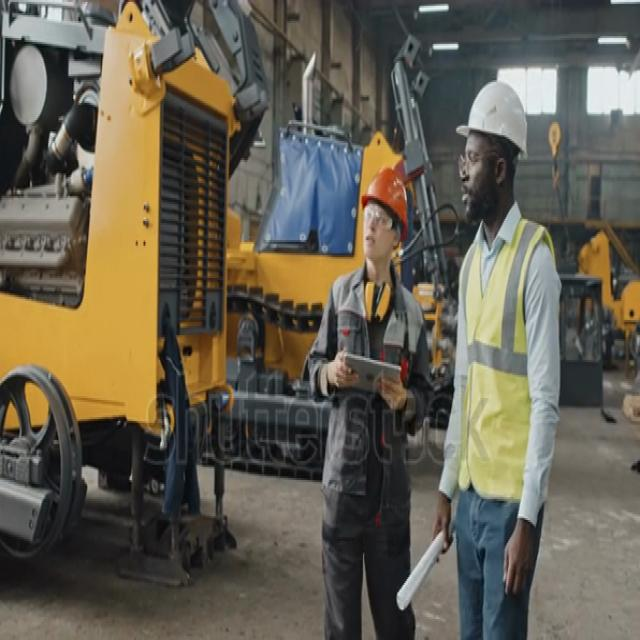Ear-Protection: (360, 269, 396, 334)
Glasses: (363, 199, 399, 239), (456, 141, 482, 179)
Helmet: (357, 129, 412, 238), (456, 80, 531, 150)
